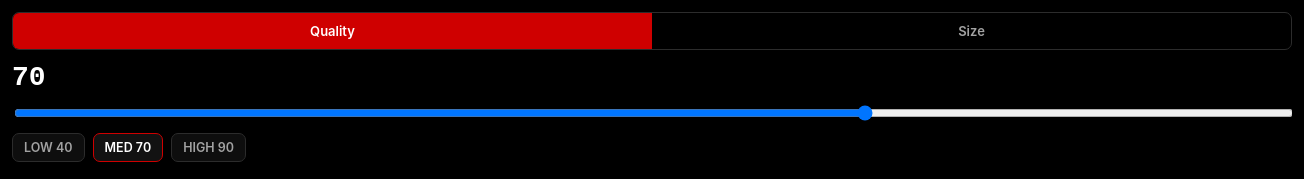
SidePanelQuality › switching to Size target writes a size setting and shows the field + unit toggle
Click the button with test id "quality-target-size" at (972, 31), box x1=652 y1=13 x2=1291 y2=49
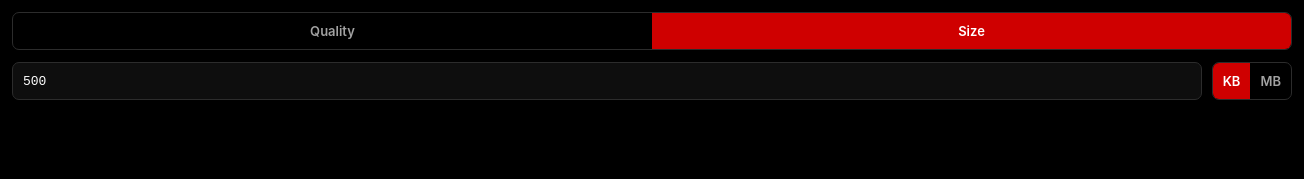
Now the field with test id "quality-size-field" is shown, box x1=12 y1=62 x2=1202 y2=100
